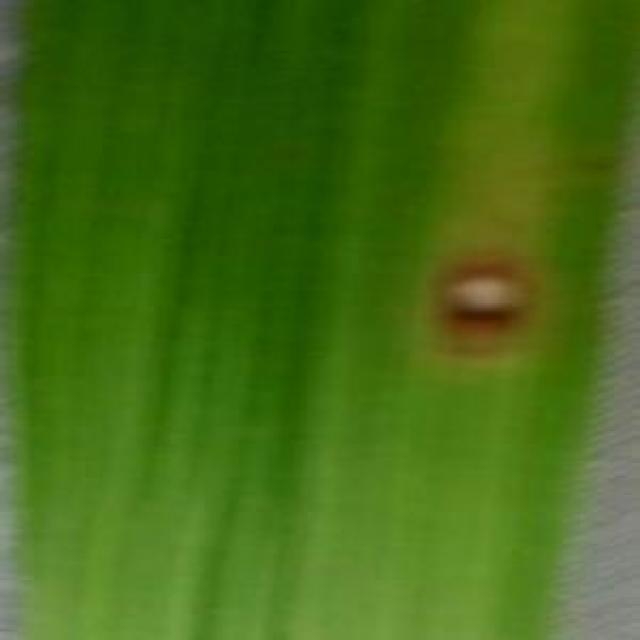Rice_Blast: (371, 175, 548, 378)
